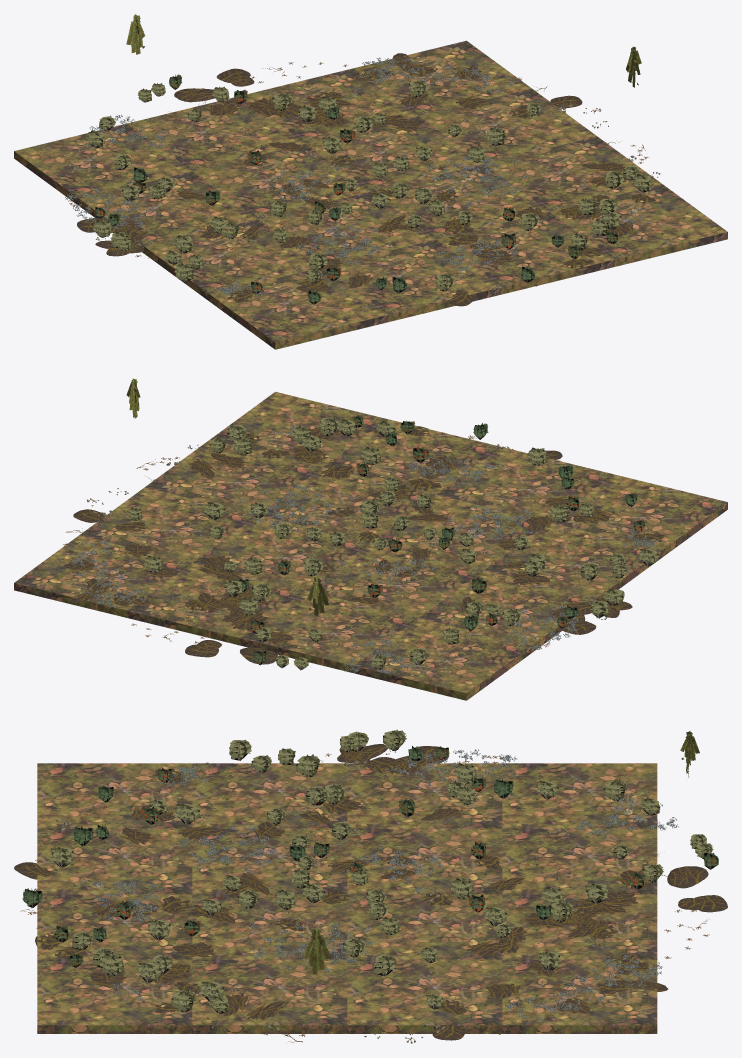
The model's file is arena_direhowl.glb.
3 renders of one model, top to bottom at view 1: azimuth 30°, elevation 25°; view 2: azimuth 150°, elevation 25°; view 3: azimuth 270°, elevation 25°, orthographic. The views are drawn at different scales.
Parts seen in each view (by area): view 1: arena; view 2: arena; view 3: arena.
Boxes of the visible parts, box(x1,y1,x2,y2) form: arena: box(14, 14, 727, 349); arena: box(14, 378, 727, 700); arena: box(14, 729, 727, 1043).
Size of the model in its own units: 73.51 by 13.64 by 73.73.
18 materials, 18 textured.
